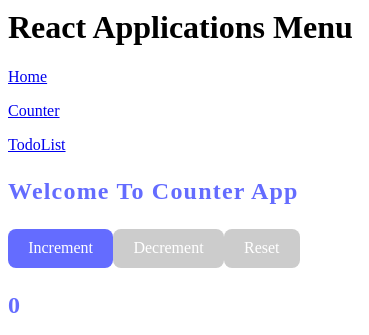
Counter component test › Decrement button click test
Click the button "Increment" at (61, 248), box [8,229,113,268]
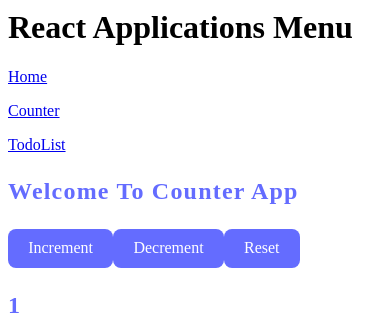
Click the button "Decrement" at (168, 248), box [113,229,224,268]
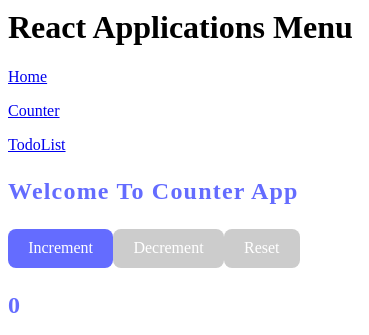
Expected: the text "0" is shown, [8,292,21,318]
